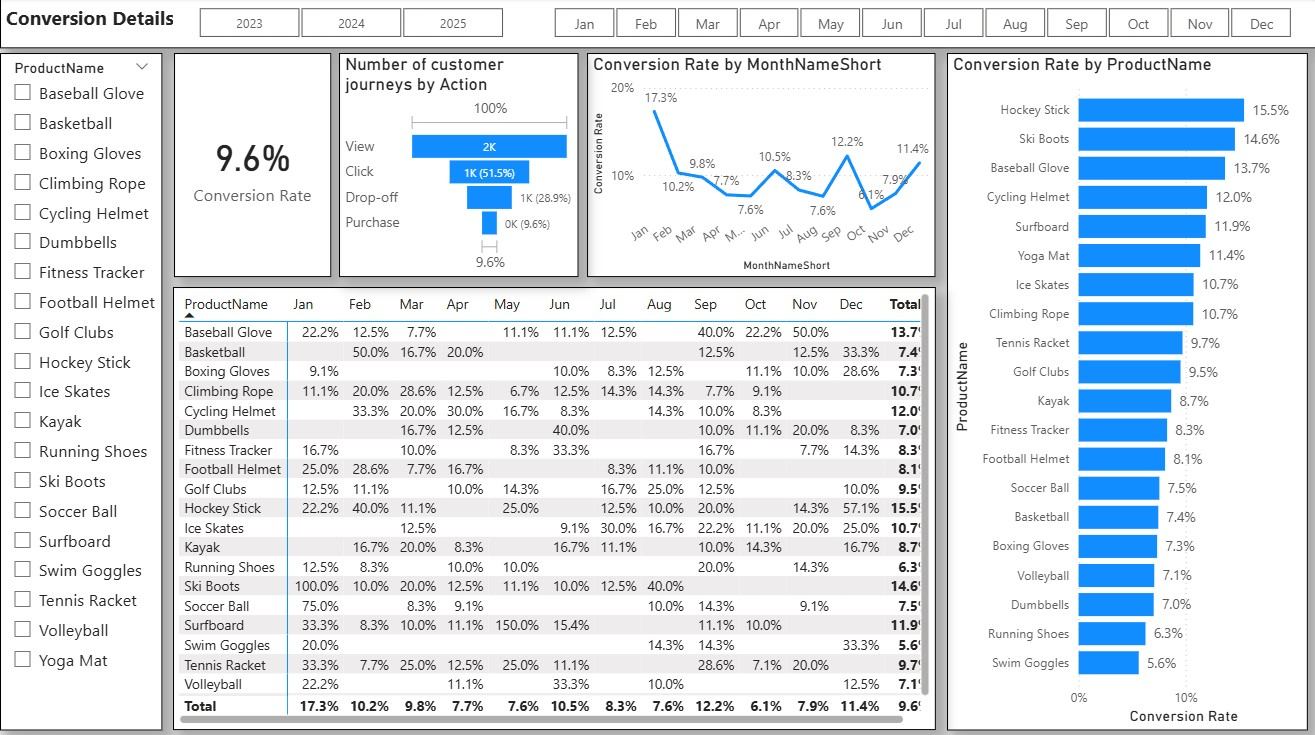

What the dashboard file says about the page in this screenshot:
{"tool":"powerbi","page":{"name":"Conversion Details","canvas":[1280,720],"ordinal":1},"visuals":[{"type":"textbox","box":[0,0,1280,48.6],"z":0},{"type":"slicer","fields":{"Values":["dim_products.ProductName"]},"box":[0,53.1,158.3,658.8],"z":1000},{"type":"card","fields":{"Values":["Calculations.Conversion Rate"]},"box":[169.4,53.1,152.8,218.1],"z":2000},{"type":"slicer","fields":{"Values":["Calendar.Year"]},"box":[168.3,2.9,345.3,41.8],"z":3000},{"type":"slicer","fields":{"Values":["Calendar.MonthNameShort"]},"box":[513.8,3.3,766.2,42.1],"z":4000},{"type":"lineChart","fields":{"Category":["Calendar.MonthNameShort"],"Y":["Calculations.Conversion Rate"]},"box":[571.3,53.1,338.8,218.1],"z":5000},{"type":"clusteredBarChart","fields":{"Category":["dim_products.ProductName"],"Y":["Calculations.Conversion Rate"]},"box":[921.2,53.1,351,658.8],"z":6000},{"type":"pivotTable","fields":{"Values":["Calculations.Conversion Rate"],"Rows":["dim_products.ProductName"],"Columns":["Calendar.MonthNameShort"]},"box":[168.3,281.2,741.9,430.7],"z":7000},{"type":"funnel","fields":{"Y":["Calculations.Number of customer journeys"],"Category":["fact_customer_journey.Action"]},"box":[330,53.1,232.5,218.1],"z":8000}]}

Visuals, with their boxes in screenshot pixels (x1, y1, x2, y2), scaled from the page's 1280x720 canvas onto the 1315x735 screenshot:
textbox: (left=0, top=0, right=1314, bottom=50)
slicer - dim_products.ProductName: (left=0, top=54, right=163, bottom=727)
card - Calculations.Conversion Rate: (left=174, top=54, right=331, bottom=277)
slicer - Calendar.Year: (left=173, top=3, right=528, bottom=46)
slicer - Calendar.MonthNameShort: (left=528, top=3, right=1314, bottom=46)
lineChart - Calendar.MonthNameShort x Calculations.Conversion Rate: (left=587, top=54, right=935, bottom=277)
clusteredBarChart - dim_products.ProductName x Calculations.Conversion Rate: (left=946, top=54, right=1307, bottom=727)
pivotTable - Calculations.Conversion Rate x dim_products.ProductName: (left=173, top=287, right=935, bottom=727)
funnel - Calculations.Number of customer journeys x fact_customer_journey.Action: (left=339, top=54, right=578, bottom=277)
